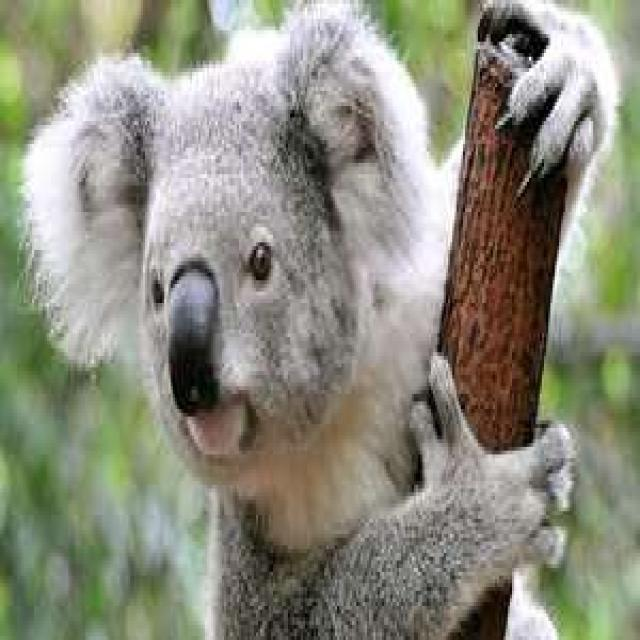Koala: (15, 0, 615, 640)
